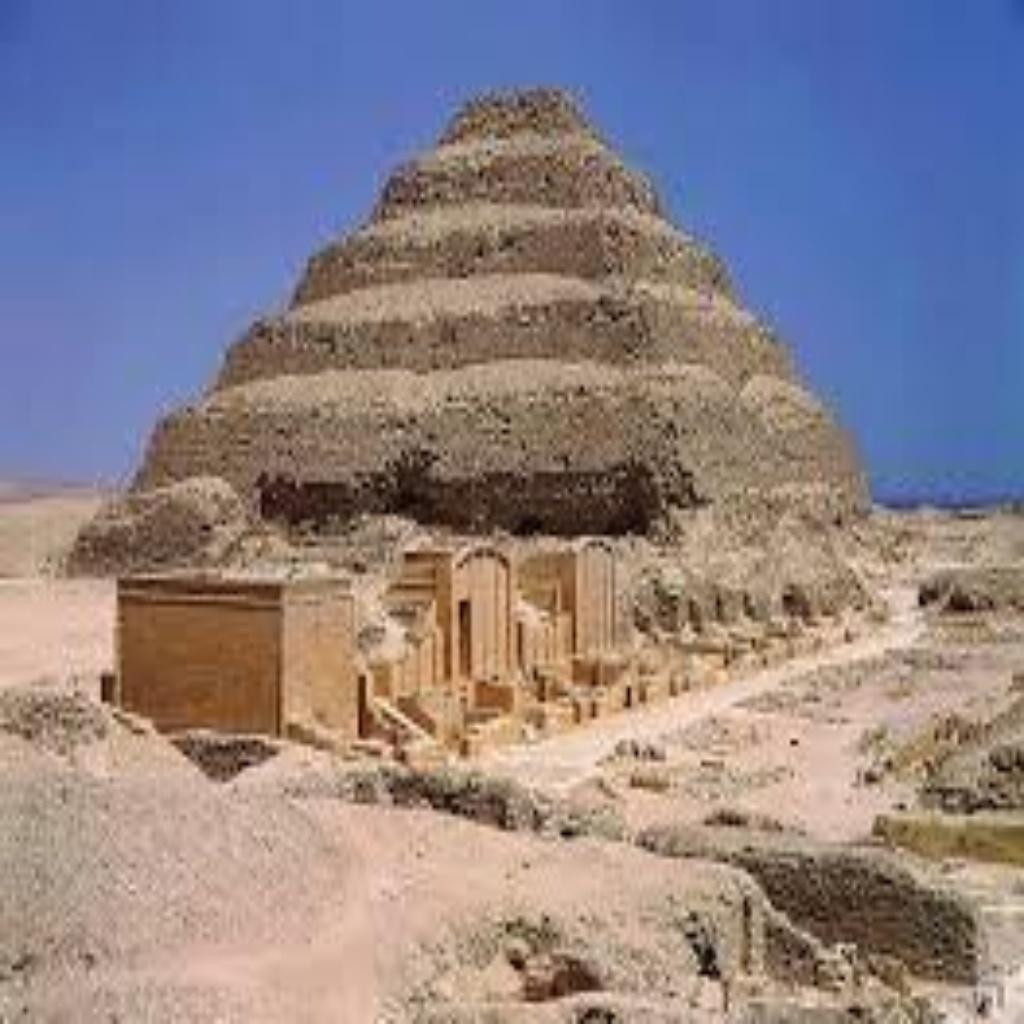Pyramid of Djoser: (58, 70, 880, 746)
